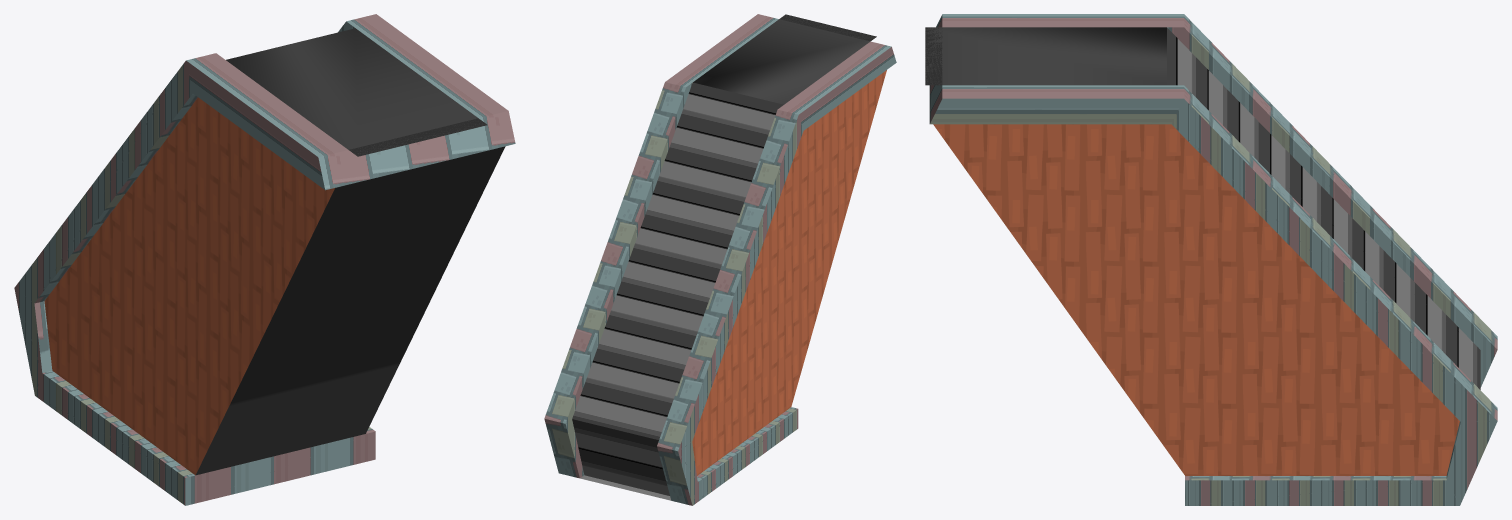
File: Escalera 2.fbx
3 views of the same model, side by side, from view 1: azimuth 30°, elevation 25°; view 2: azimuth 150°, elevation 25°; view 3: azimuth 270°, elevation 25° (orthographic). The views are drawn at different scales.
Visible parts, largest first — view 1: bule; view 2: bule; view 3: bule.
Boxes of the visible parts, x1,y1,x2,y2 form: bule: (14, 14, 515, 505); bule: (544, 14, 896, 505); bule: (925, 14, 1497, 505).
Bounding box in the file's own units: 400 × 896 × 1141.
